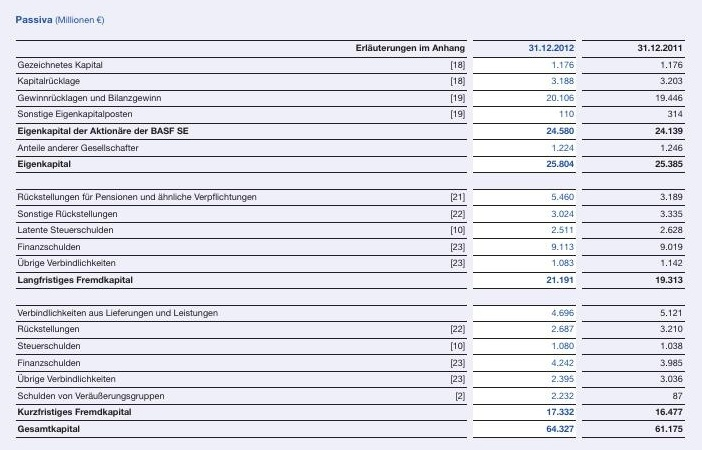table: (0, 0, 702, 450)
